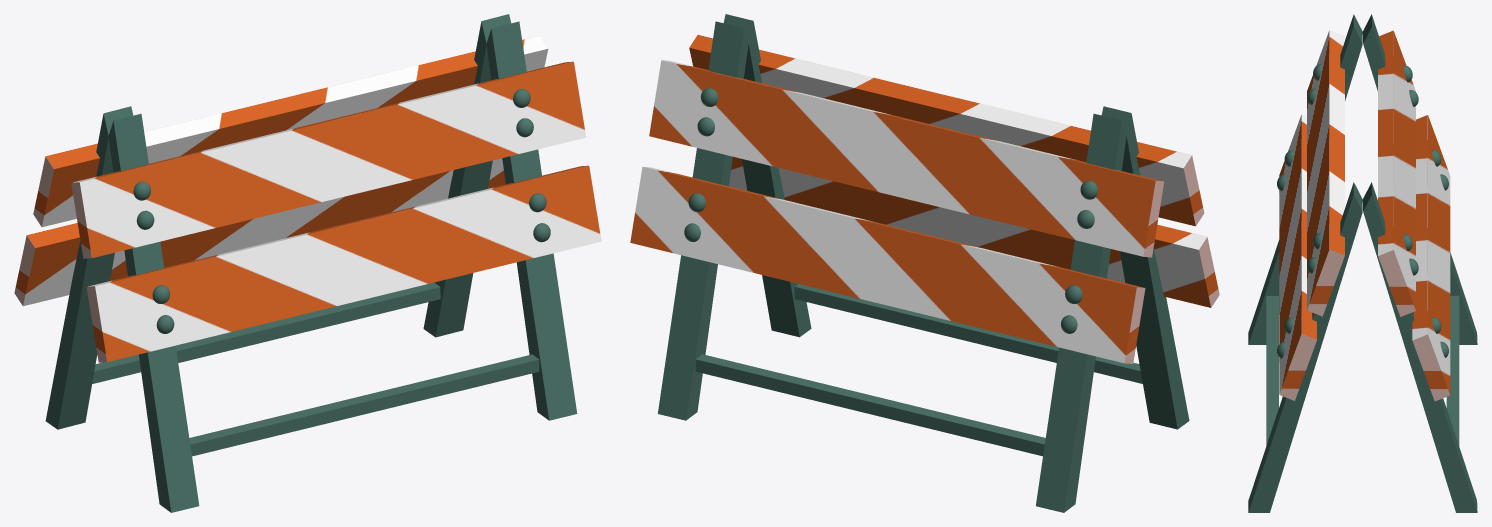
Rendered from Absperrung.fbx.
3 views of the same model, side by side, from view 1: azimuth 30°, elevation 25°; view 2: azimuth 150°, elevation 25°; view 3: azimuth 270°, elevation 25° (orthographic). The views are drawn at different scales.
Visible parts, largest first — view 1: pCube14; view 2: pCube14; view 3: pCube14.
Boxes of the visible parts, box(x1,y1,x2,y2) form: pCube14: box(14, 14, 601, 512); pCube14: box(630, 14, 1219, 512); pCube14: box(1248, 14, 1477, 512).
Size of the model in its own units: 505 by 341 by 222.
Materials: 2 (1 with a texture image).
